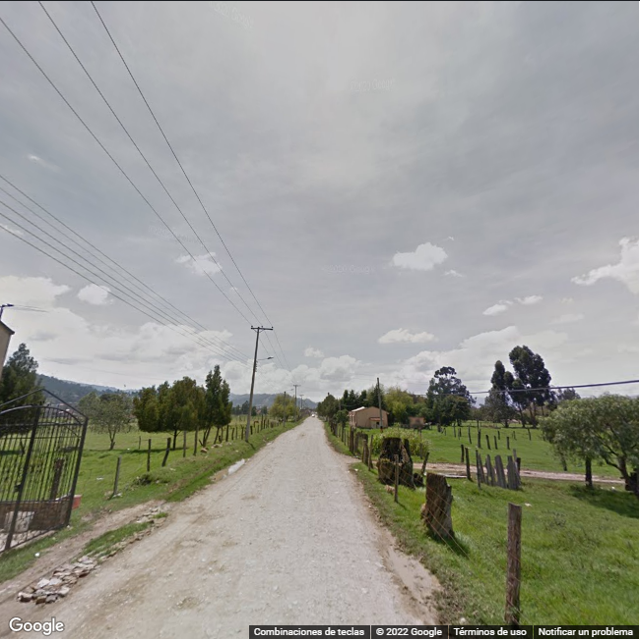D00: (136, 547, 179, 603), (321, 562, 339, 620)
D40: (171, 588, 206, 613)
